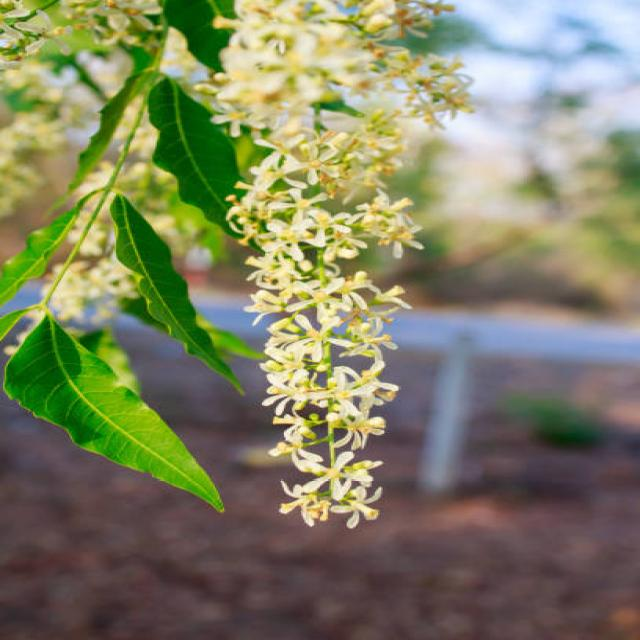Neem-Tree: (6, 170, 216, 498), (111, 195, 232, 371)
